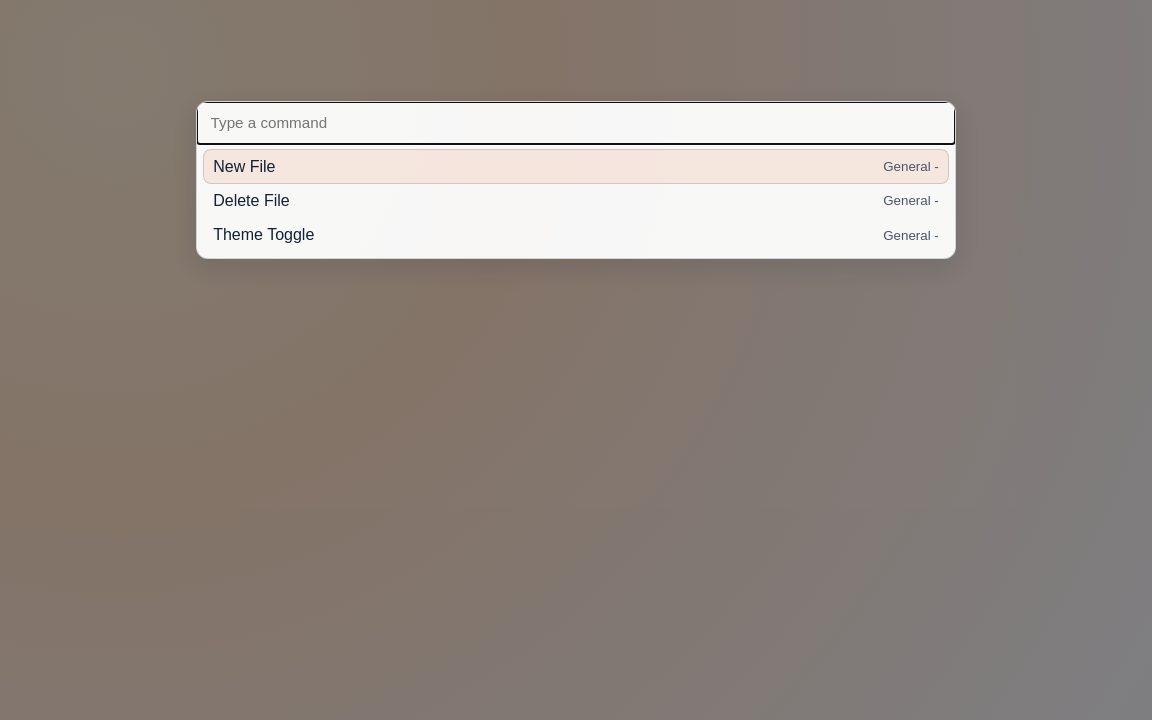
Test: CommandPalette › fuzzy filters by query text
Type "file" into the field with placeholder "Type a command".
click(576, 123); type("file")  # box [197,102,955,144]
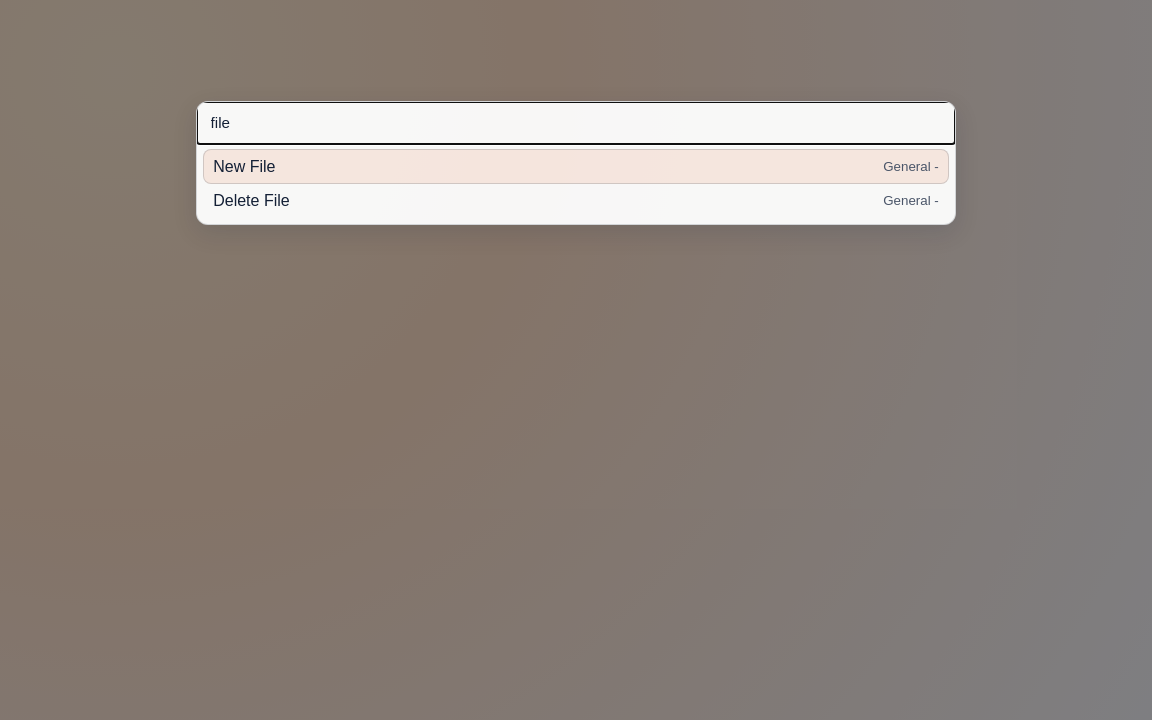
Check: the text "New File" is shown, box [213,158,275,176]
Check: the button "Theme Toggle" is gone
